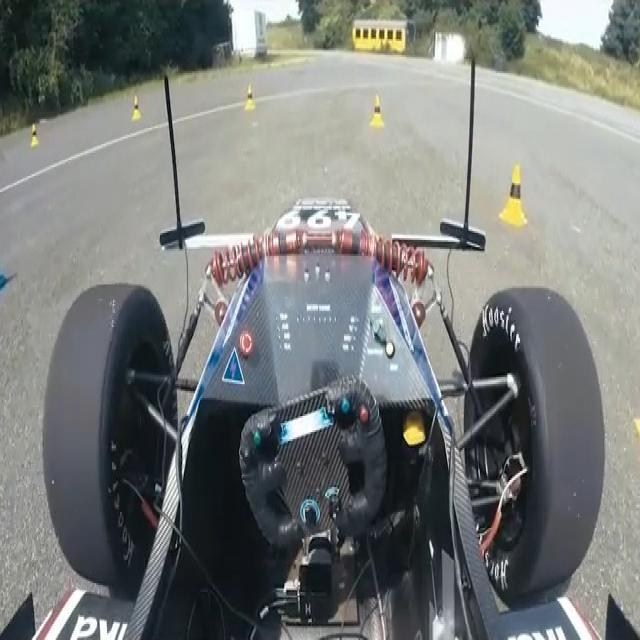blue_cone: (0, 248, 12, 298)
yellow_cone: (498, 157, 528, 231), (368, 92, 386, 131), (244, 81, 256, 112), (131, 96, 142, 122)
